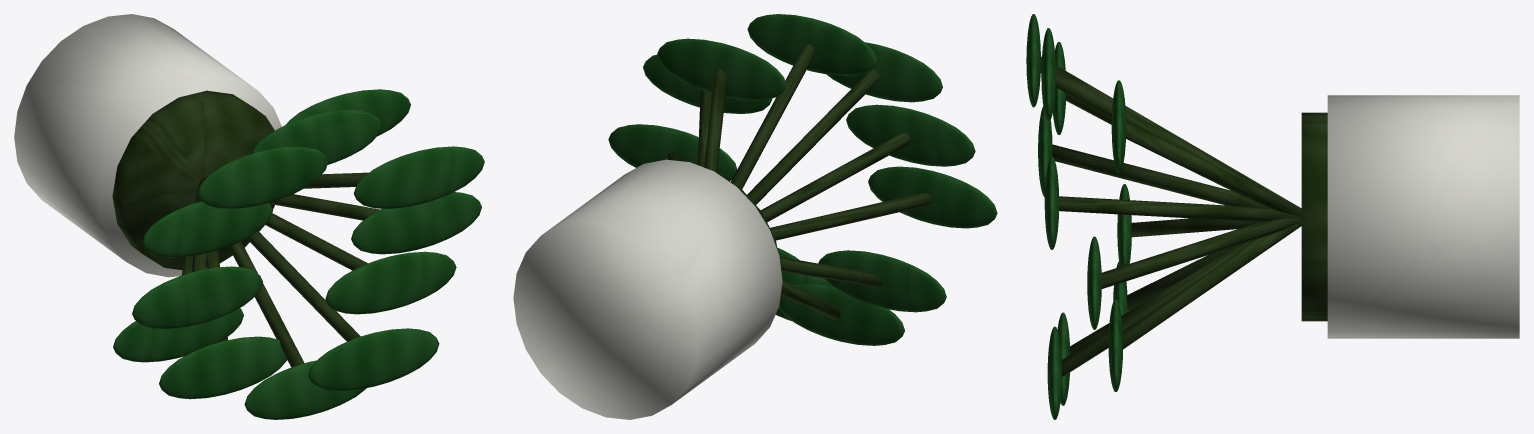
Rendered from PLANT_MEDIUM_001.glb.
The picture shows the model from 3 angles, left to right: view 1: azimuth 30°, elevation 25°; view 2: azimuth 150°, elevation 25°; view 3: azimuth 270°, elevation 25°; orthographic projection. The views are drawn at different scales.
Parts seen in each view (by area): view 1: pot_000, soil_001, leaf_011, leaf_005, leaf_015, leaf_023, leaf_025, leaf_019, leaf_003, leaf_013, leaf_009, leaf_021 (+7 smaller); view 2: pot_000, leaf_007, leaf_009, leaf_013, leaf_015, leaf_017, leaf_019, leaf_003, leaf_011, stem_010, stem_012, stem_014 (+7 smaller); view 3: pot_000, soil_001, stem_004, stem_014, stem_002, stem_024, stem_006, stem_008, stem_022, stem_016, stem_018, leaf_009 (+12 smaller).
Part boxes in pixels (box(x1,y1,x2,y2)): pot_000: box(14, 14, 281, 277); soil_001: box(112, 90, 274, 270); leaf_011: box(197, 146, 328, 208); leaf_005: box(353, 146, 484, 208); leaf_015: box(132, 266, 262, 328); leaf_023: box(308, 328, 439, 390); leaf_025: box(325, 251, 456, 314); leaf_019: box(159, 336, 286, 399); leaf_003: box(351, 192, 481, 254); leaf_013: box(142, 201, 272, 257); leaf_009: box(252, 110, 381, 164); leaf_021: box(244, 360, 366, 419); pot_000: box(513, 159, 782, 419); leaf_007: box(657, 38, 786, 100); leaf_009: box(747, 14, 876, 75); leaf_013: box(846, 104, 975, 166); leaf_015: box(868, 166, 997, 228); leaf_017: box(818, 250, 946, 312); leaf_019: box(778, 284, 904, 345); leaf_003: box(608, 124, 737, 181); leaf_011: box(826, 42, 942, 102); stem_010: box(747, 69, 879, 204); stem_012: box(761, 133, 910, 222); stem_014: box(770, 193, 932, 240); pot_000: box(1327, 95, 1519, 338); soil_001: box(1301, 112, 1327, 321); stem_004: box(1059, 196, 1301, 222); stem_014: box(1052, 144, 1264, 207); stem_002: box(1101, 218, 1301, 288); stem_024: box(1122, 222, 1301, 349); stem_006: box(1126, 122, 1301, 216); stem_008: box(1055, 70, 1299, 207); stem_022: box(1061, 240, 1254, 377); stem_016: box(1131, 218, 1259, 237); stem_018: box(1127, 245, 1239, 311); leaf_009: box(1041, 28, 1055, 121).
Size of the model in its own units: 0.556 by 0.437 by 0.5658.
3 materials, 3 textured.
